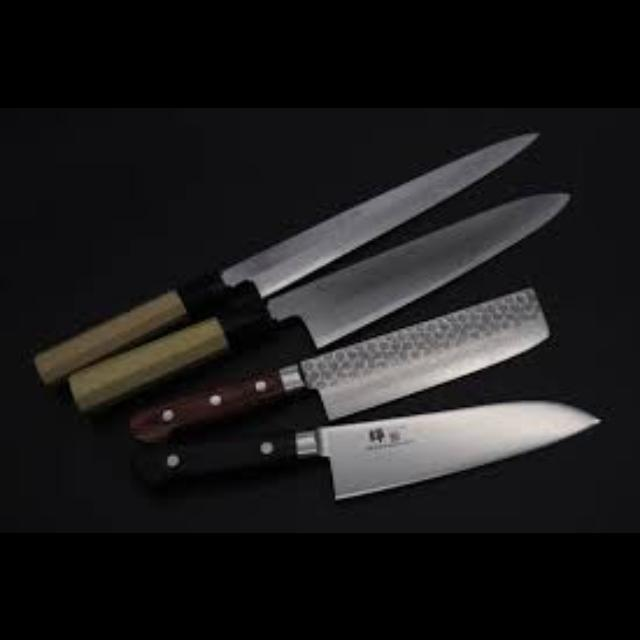Knife: (31, 128, 540, 386), (128, 284, 550, 442), (130, 398, 600, 500)
